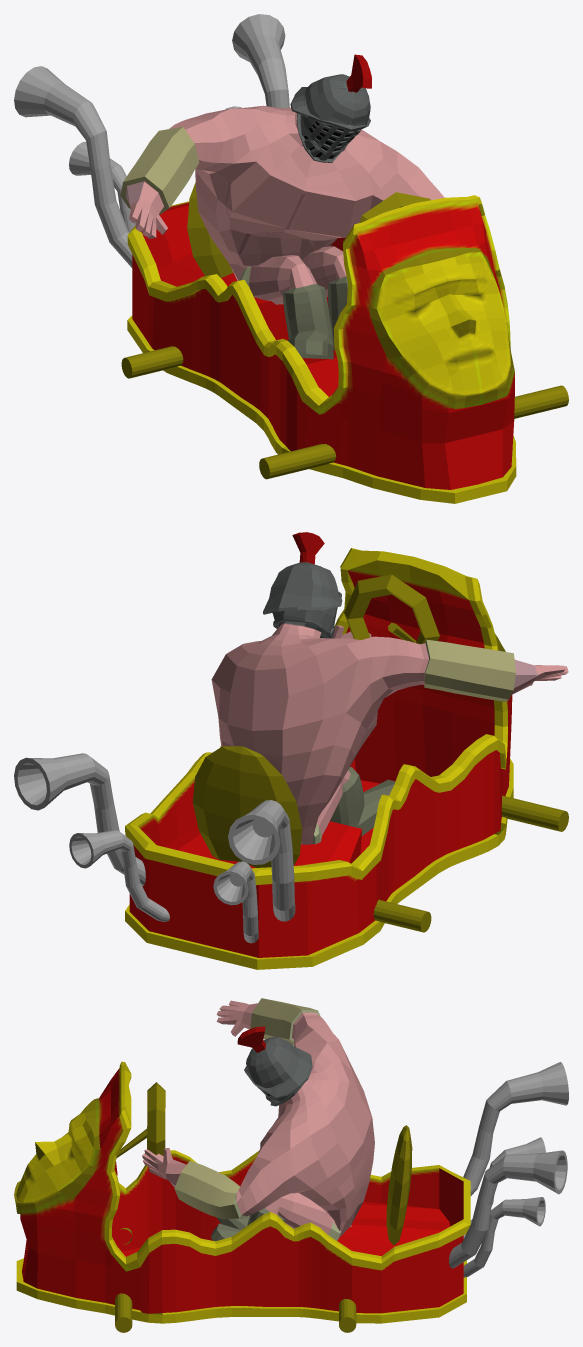
The model's file is gladiVacile_000573.obj.
3 renders of one model, top to bottom at view 1: azimuth 30°, elevation 25°; view 2: azimuth 150°, elevation 25°; view 3: azimuth 270°, elevation 25°, orthographic. The views are drawn at different scales.
Visible parts, largest first — view 1: GladiChasis_GladiChasisH, Gadiador_Gladiador_H.001, GladiTubos_GladiTubosH, GladiVolante_GladiVolanteH; view 2: GladiChasis_GladiChasisH, Gadiador_Gladiador_H.001, GladiTubos_GladiTubosH, GladiVolante_GladiVolanteH; view 3: GladiChasis_GladiChasisH, Gadiador_Gladiador_H.001, GladiTubos_GladiTubosH, GladiVolante_GladiVolanteH.
Part boxes in pixels (x1,y1,x2,y2): GladiChasis_GladiChasisH: (127,195,516,503); Gadiador_Gladiador_H.001: (120,54,444,359); GladiTubos_GladiTubosH: (14,14,289,267); GladiVolante_GladiVolanteH: (121,182,568,479); GladiChasis_GladiChasisH: (125,548,513,969); Gadiador_Gladiador_H.001: (211,532,568,844); GladiTubos_GladiTubosH: (14,753,295,943); GladiVolante_GladiVolanteH: (192,574,568,932); GladiChasis_GladiChasisH: (14,1061,470,1323); Gadiador_Gladiador_H.001: (142,998,374,1241); GladiTubos_GladiTubosH: (449,1062,568,1277); GladiVolante_GladiVolanteH: (115,1082,412,1332).
Bounding box in the file's own units: 6.71 × 5.66 × 10.78.
